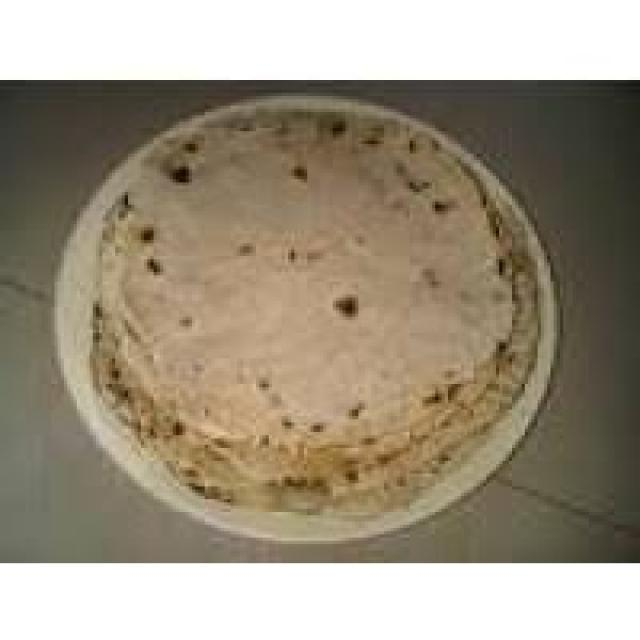ROTI: (102, 102, 512, 442)
